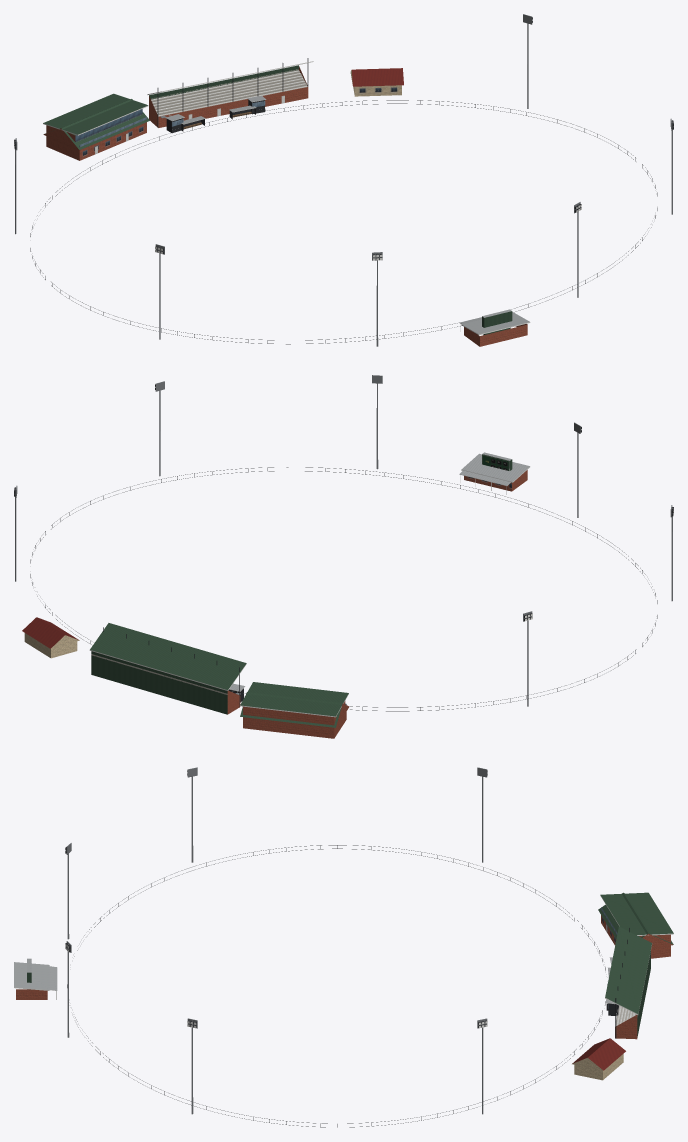
Rendered from oval_t3_minor.glb.
3 views of the same model, one above another, from view 1: azimuth 30°, elevation 25°; view 2: azimuth 150°, elevation 25°; view 3: azimuth 270°, elevation 25° (orthographic).
Parts seen in each view (by area): view 1: buildings, stands, lights, fence_posts, boxes; view 2: stands, buildings, lights, fence_posts; view 3: buildings, stands, lights, fence_posts.
Part boxes in pixels (x1=…): buildings: x1=43, y1=68, x2=530, y2=346; stands: x1=147, y1=58, x2=313, y2=127; lights: x1=14, y1=14, x2=673, y2=346; fence_posts: x1=30, y1=100, x2=657, y2=344; boxes: x1=165, y1=96, x2=266, y2=133; stands: x1=89, y1=623, x2=246, y2=714; buildings: x1=22, y1=453, x2=530, y2=738; lights: x1=14, y1=375, x2=673, y2=706; fence_posts: x1=30, y1=467, x2=657, y2=711; buildings: x1=14, y1=892, x2=673, y2=1080; stands: x1=605, y1=926, x2=652, y2=1039; lights: x1=65, y1=767, x2=487, y2=1114; fence_posts: x1=67, y1=845, x2=607, y2=1127.
Size of what is drawn, in the model's own units: 166 by 26.2 by 166.
18 materials, 18 textured.
